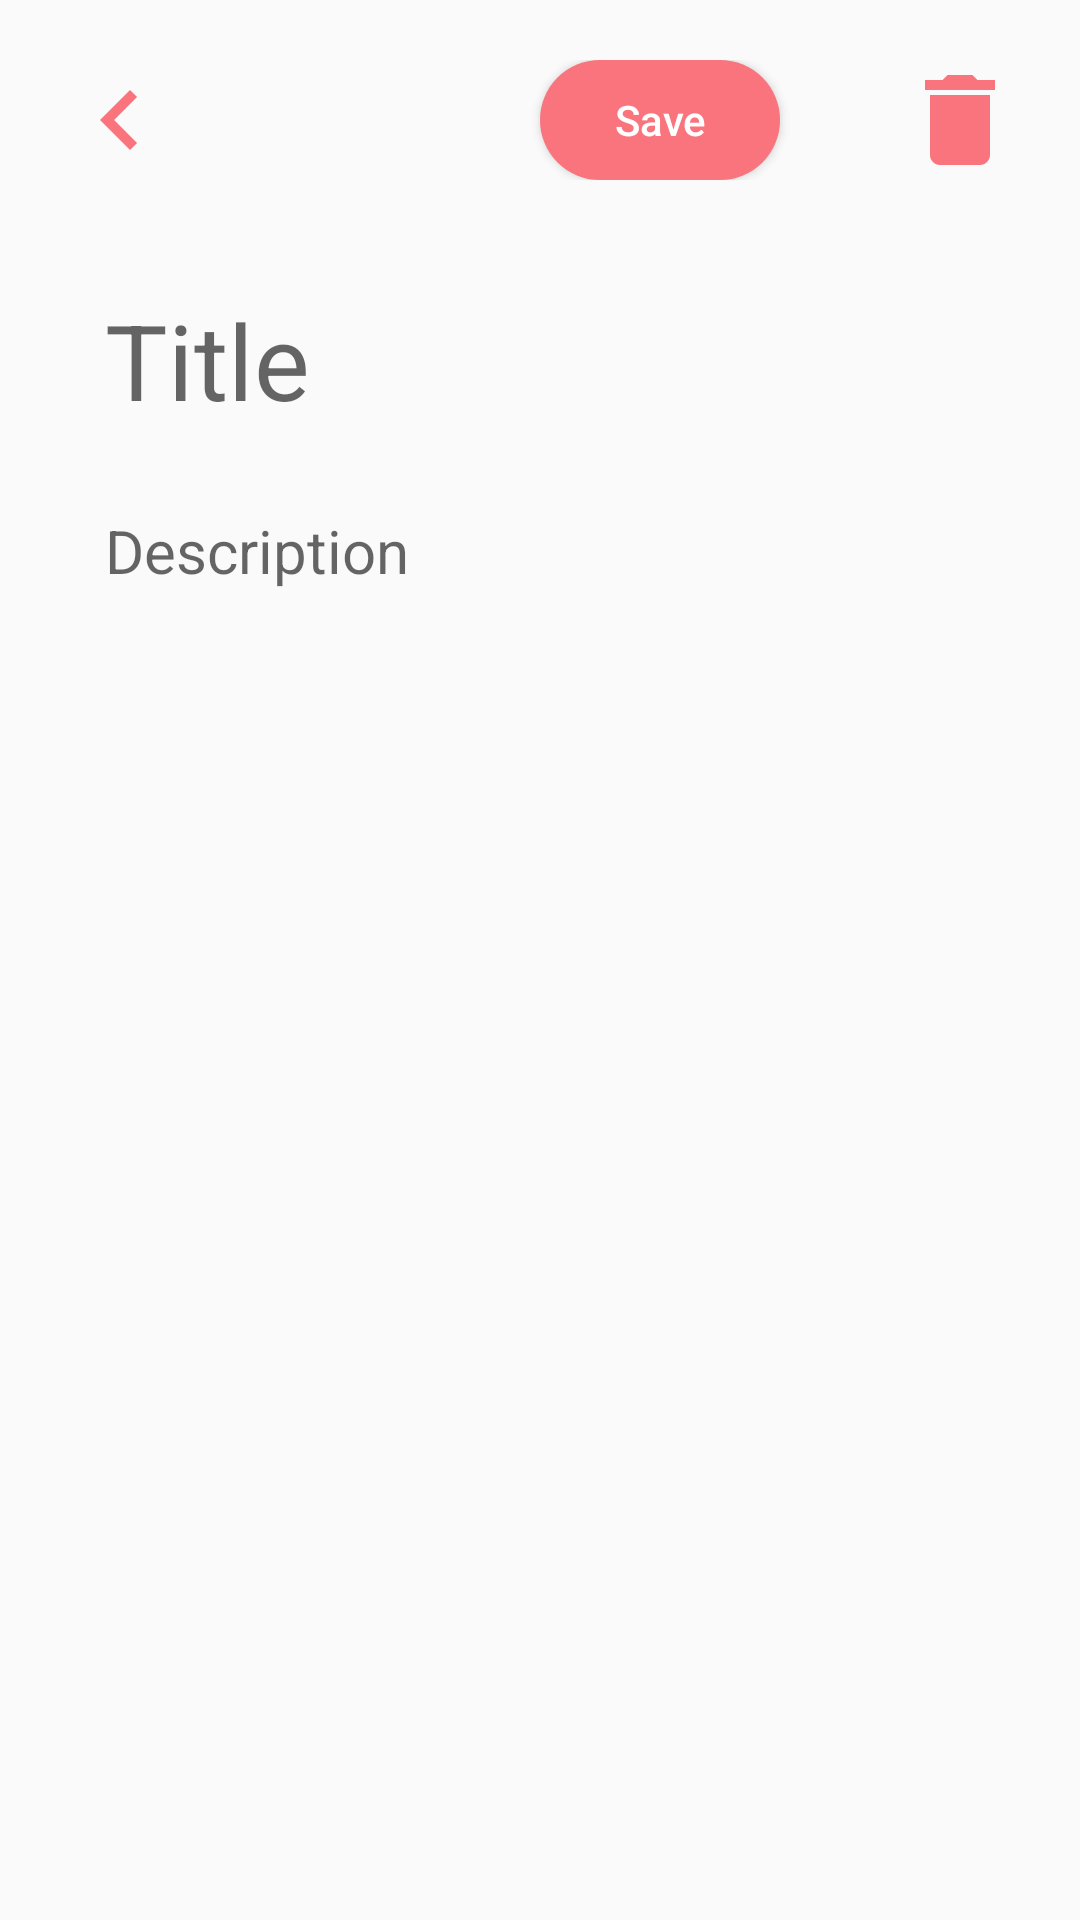

Where icons sit on this 1080*1920 app screen, as (x1, y1, x2, y2):
chevron: (100, 90, 137, 150)
